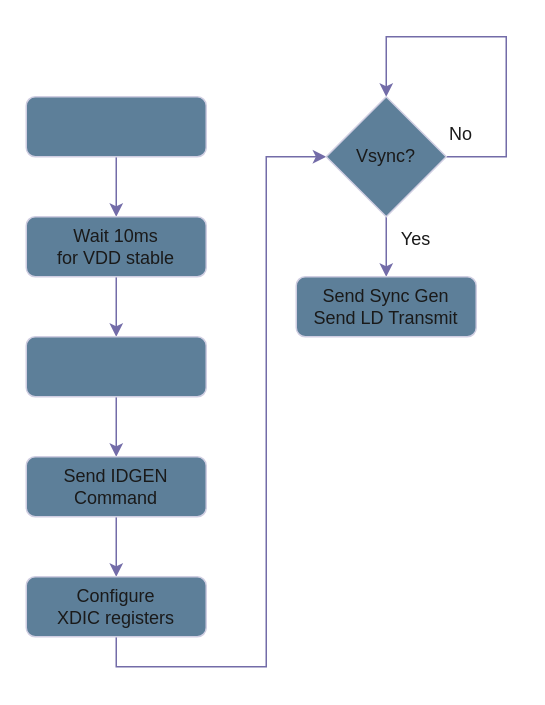
Some shapes in this 545 by 705 pixel diagram are drawn without their labels. Here are the shapes that lost their labels. From the top down, the box of each, then its label:
(25, 95, 206, 157): VDD On
(25, 335, 206, 397): Send RESET
